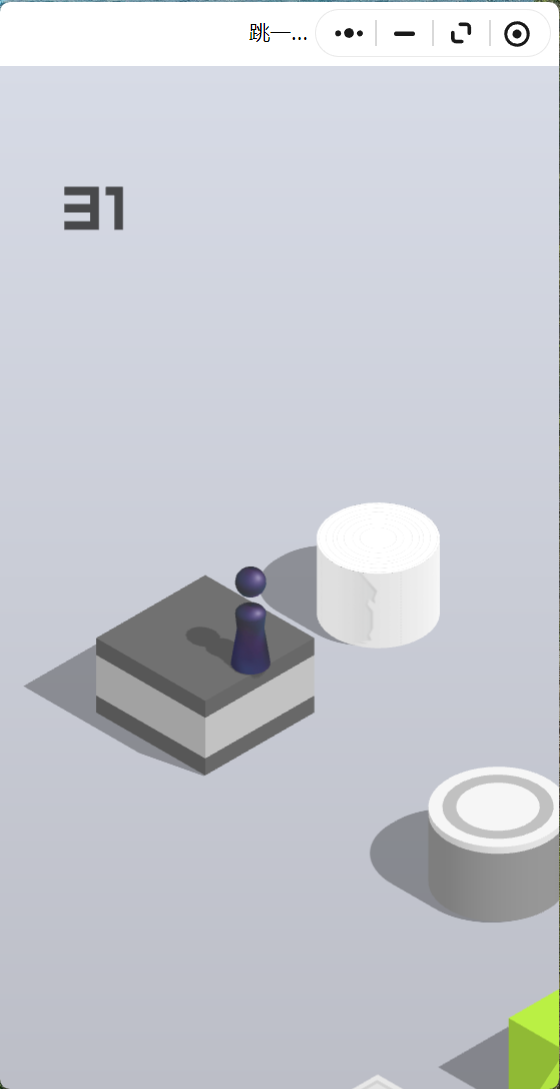piece: (236, 567, 266, 671)
target: (317, 502, 439, 574)
